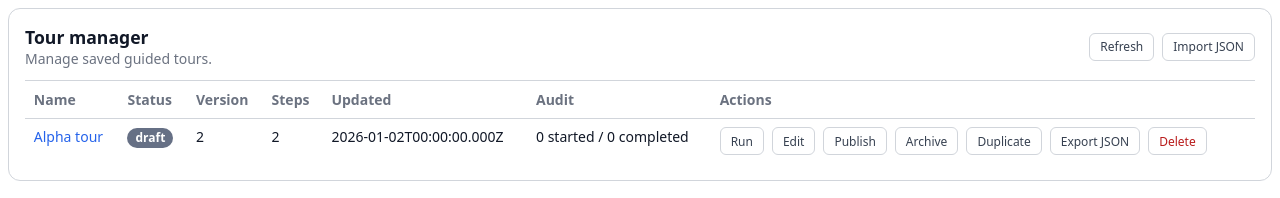
Test: TkTourManagerComponent › deletes only after the confirm click sequence
The image size is (1280, 198).
Click the button "Delete".
click(1177, 141)  # box [1148,127,1207,155]
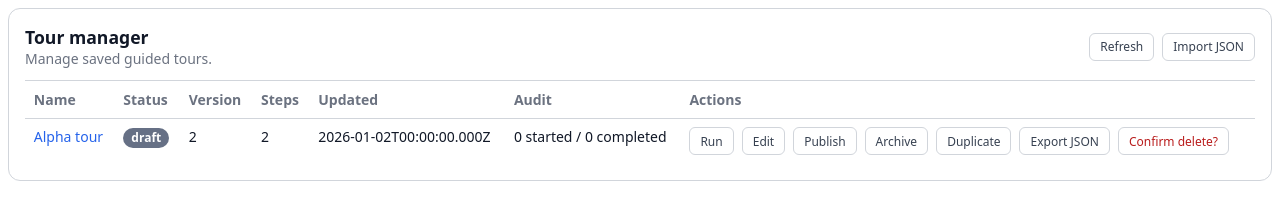
Now the text "Confirm delete?" is shown
Click the button "Confirm delete?".
click(1173, 141)  # box [1118,127,1229,155]
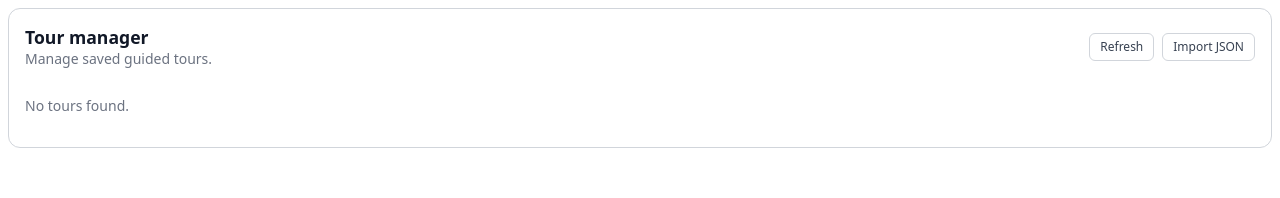
Now the text "Alpha tour" is gone
